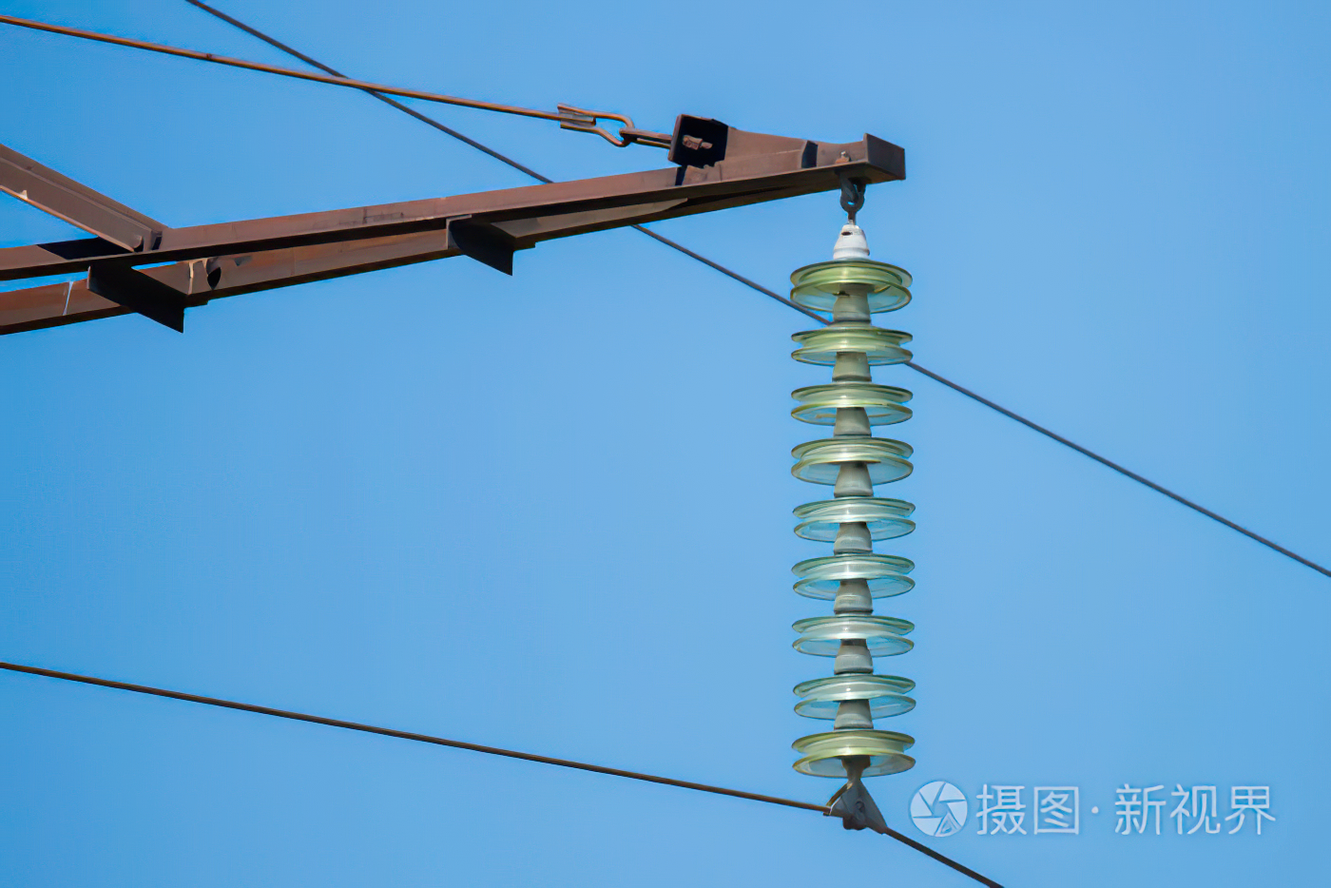insulator: (786, 261, 918, 778)
